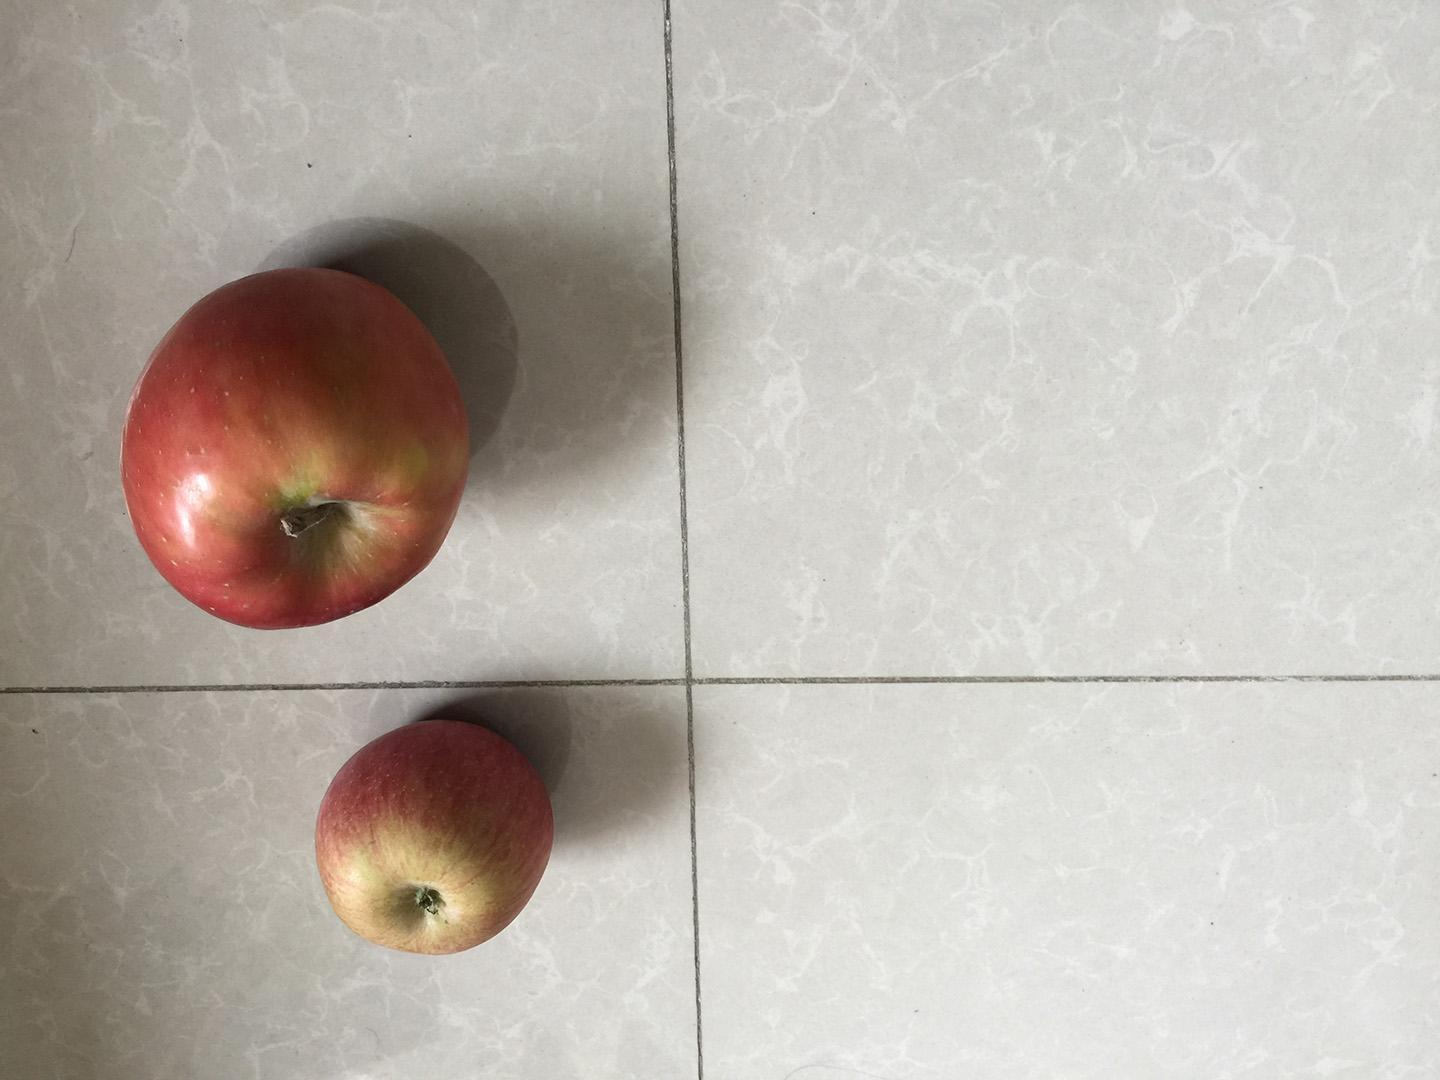apple: (111, 258, 481, 639), (307, 712, 561, 963)
